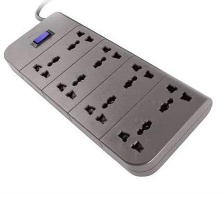three_eye_plug: (3, 9, 219, 182)
